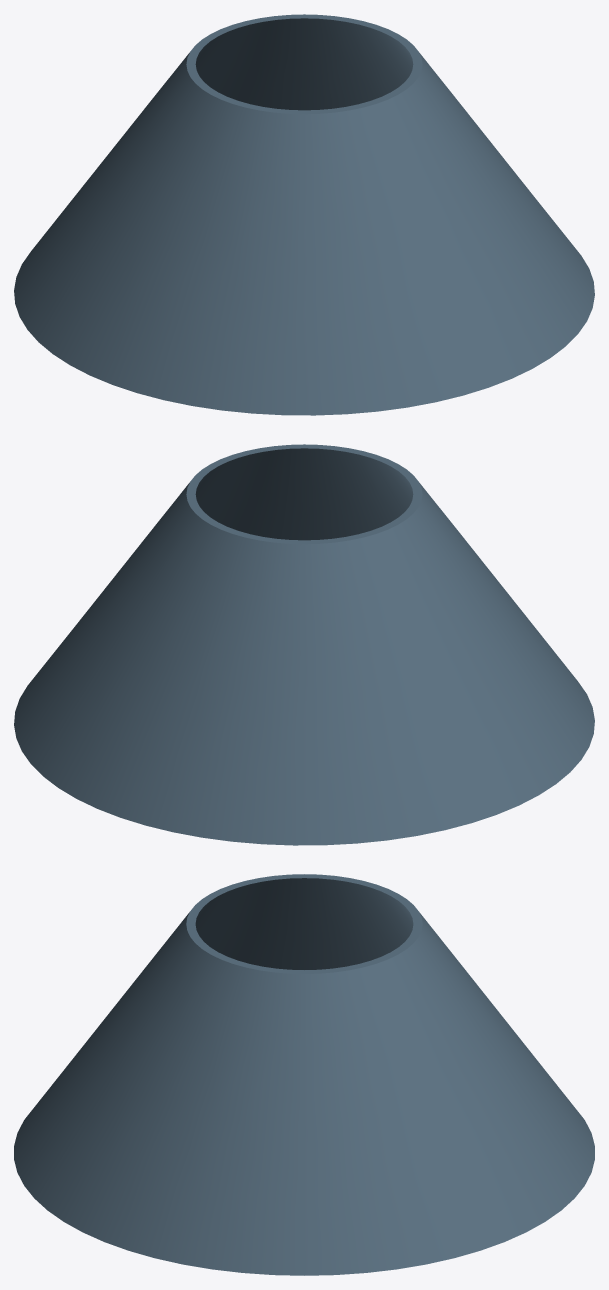
Rendered from perehod-219x6-89x3_5-L95.glb.
3 views of the same model, one above another, from view 1: azimuth 30°, elevation 25°; view 2: azimuth 150°, elevation 25°; view 3: azimuth 270°, elevation 25° (orthographic).
Visible parts, largest first — view 1: Open CASCADE STEP translator 7.9 38; view 2: Open CASCADE STEP translator 7.9 38; view 3: Open CASCADE STEP translator 7.9 38.
Part boxes in pixels (<box>): Open CASCADE STEP translator 7.9 38: <box>14,14,594,415</box>; Open CASCADE STEP translator 7.9 38: <box>14,444,594,845</box>; Open CASCADE STEP translator 7.9 38: <box>14,874,594,1275</box>.
Bounding box in the file's own units: 219 × 95 × 219.
